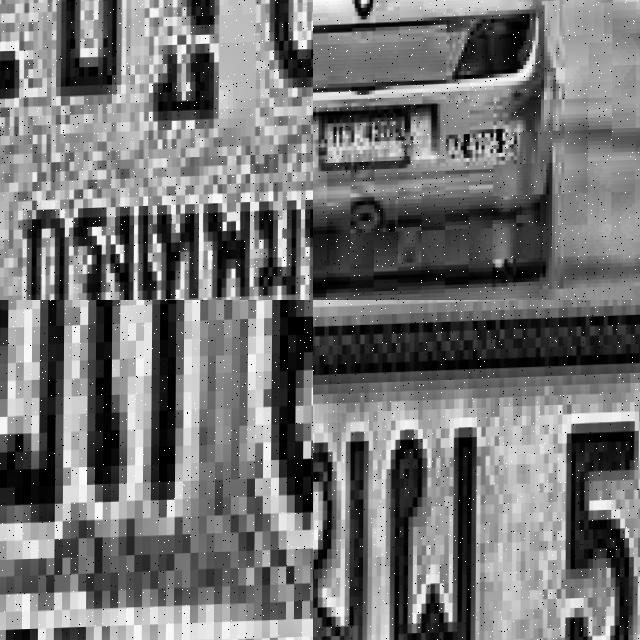license-plate: (313, 300, 640, 640), (0, 300, 313, 640), (0, 0, 313, 300), (315, 108, 415, 174)
